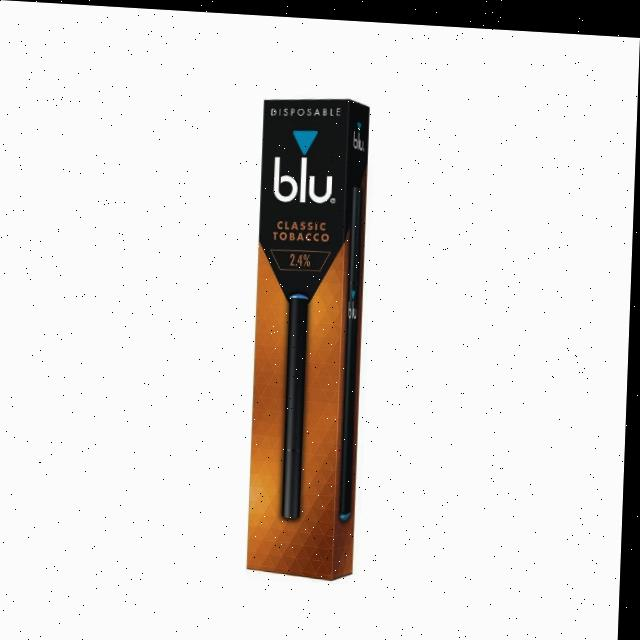vape: (341, 180, 365, 521), (282, 287, 314, 518)
